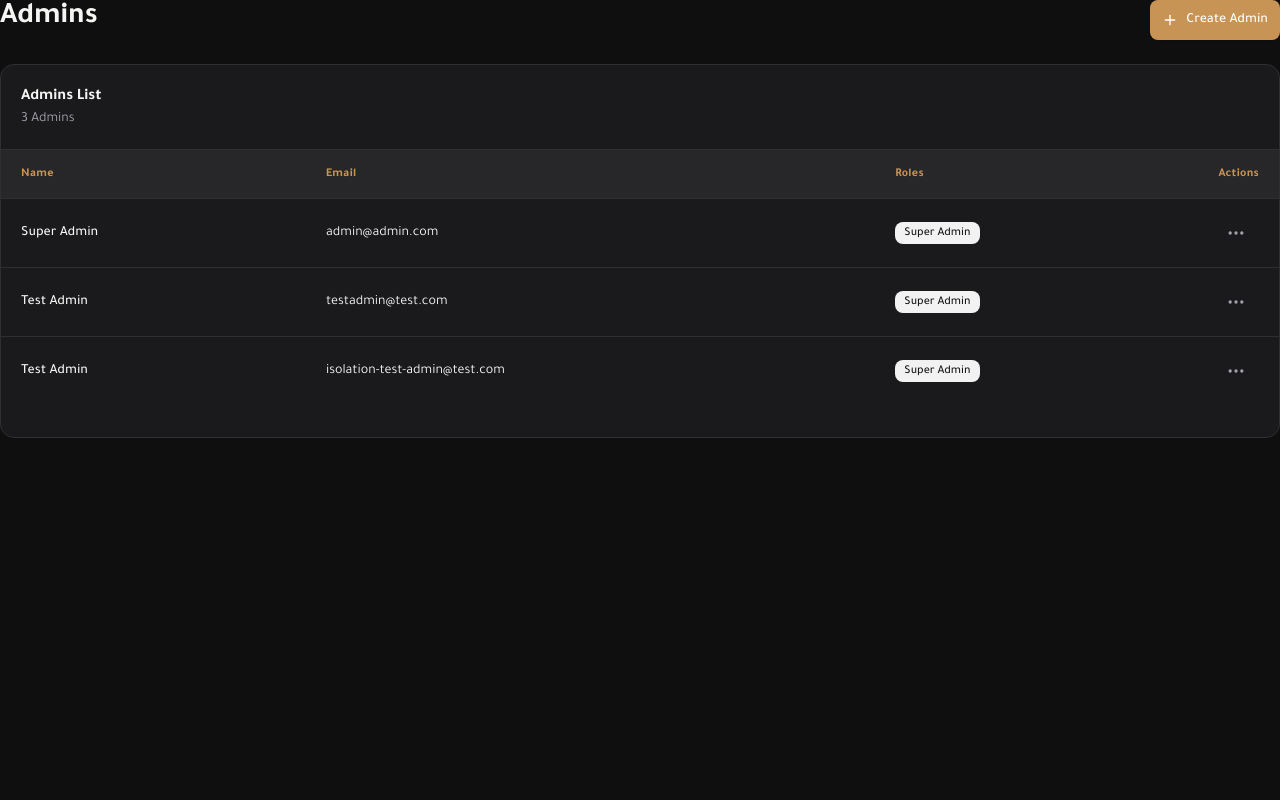
Test: AdminsPage › shows a safe retry state when edit detail fails
Click the button named "Actions for Super Admin": (1236, 232) left=1218, top=214, right=1254, bottom=250
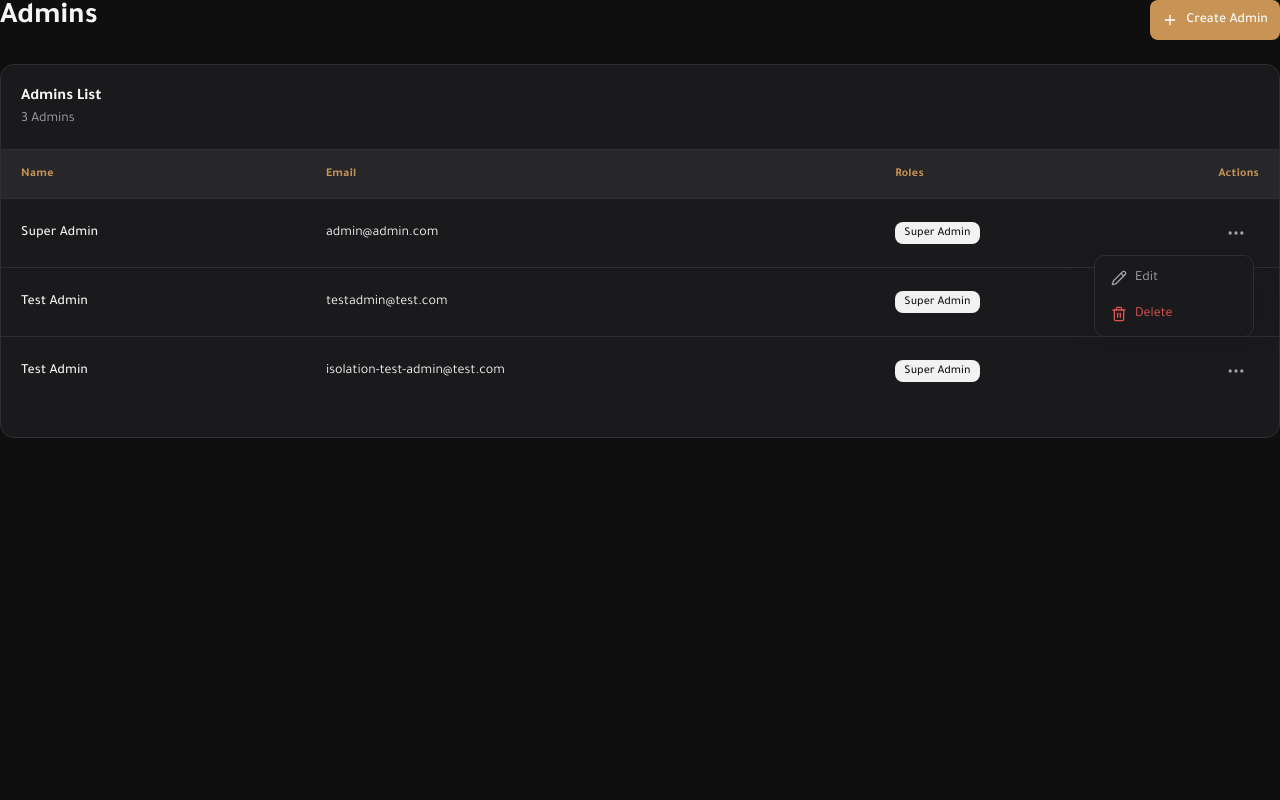
Click the menu item "Edit": (1135, 278) left=1111, top=270, right=1158, bottom=286
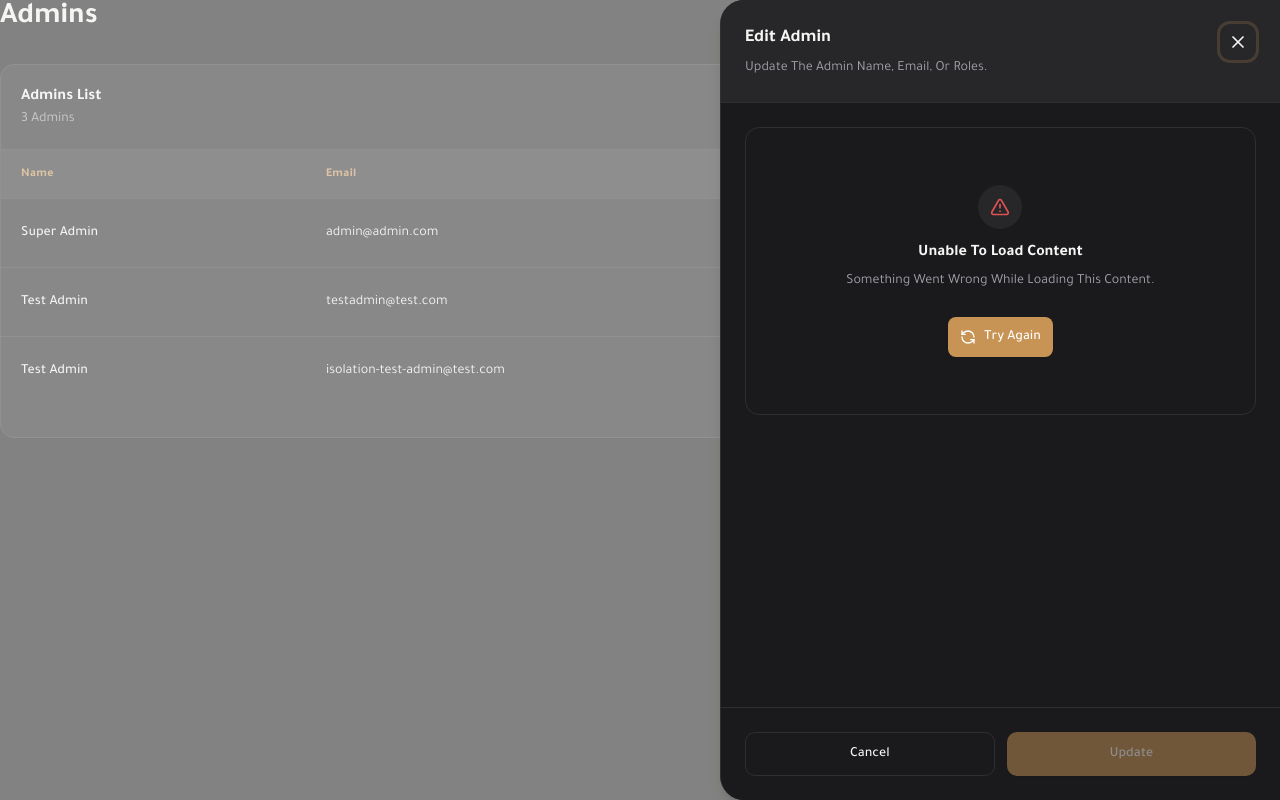
Expected: the element with test id "query-state-loading-error" is shown, left=745, top=127, right=1256, bottom=415
Click the button "Try again": (1000, 337) left=948, top=317, right=1053, bottom=357
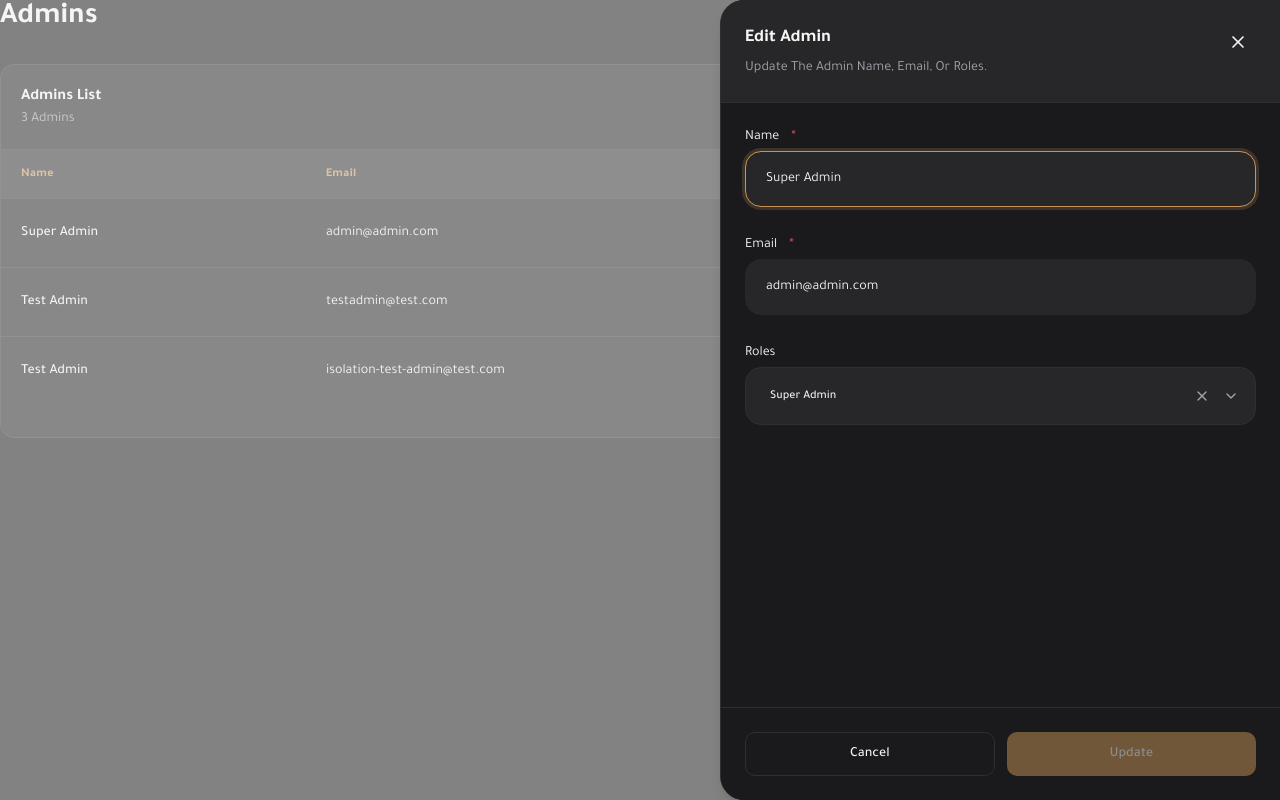
Expected: the field labelled "Name *" holds "Super Admin", left=754, top=161, right=1247, bottom=197
